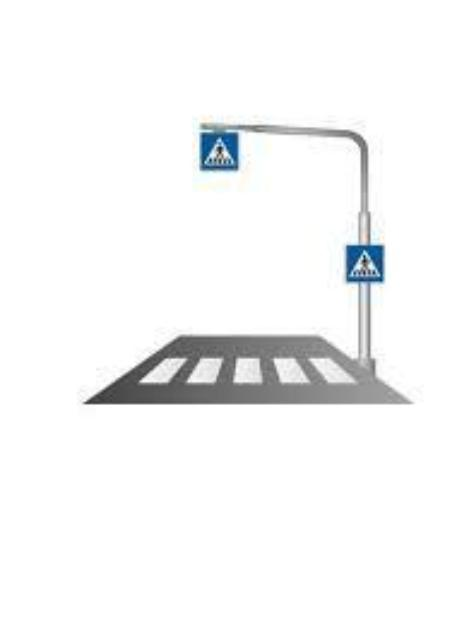crosswalk-sign: (199, 129, 239, 172), (345, 244, 383, 282)
